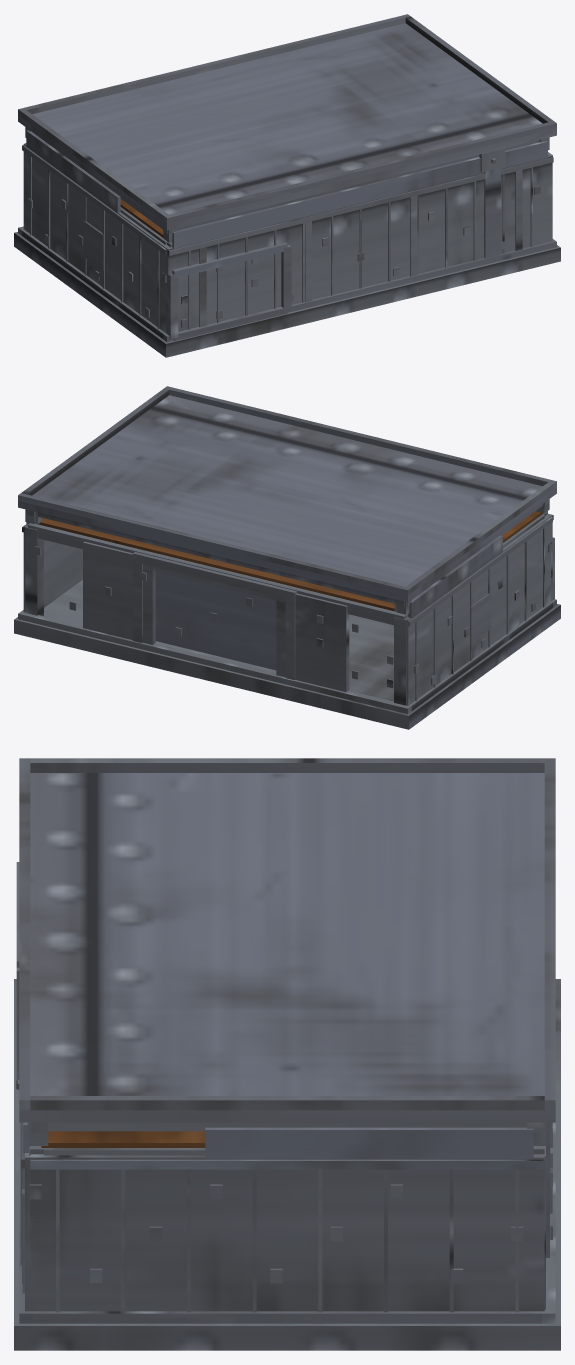
3 views of the same model, one above another, from view 1: azimuth 30°, elevation 25°; view 2: azimuth 150°, elevation 25°; view 3: azimuth 270°, elevation 25° (orthographic). The views are drawn at different scales.
Visible parts, largest first — view 1: SM_HDBF_BoxFarm_Top_LOD1; view 2: SM_HDBF_BoxFarm_Top_LOD1; view 3: SM_HDBF_BoxFarm_Top_LOD1.
Part boxes in pixels (bbox=[...]): SM_HDBF_BoxFarm_Top_LOD1: bbox=[14, 14, 560, 357]; SM_HDBF_BoxFarm_Top_LOD1: bbox=[14, 386, 560, 729]; SM_HDBF_BoxFarm_Top_LOD1: bbox=[14, 758, 560, 1350].
Size of the model in its own units: 3 by 1 by 2.
Materials: 4 (4 with a texture image).
